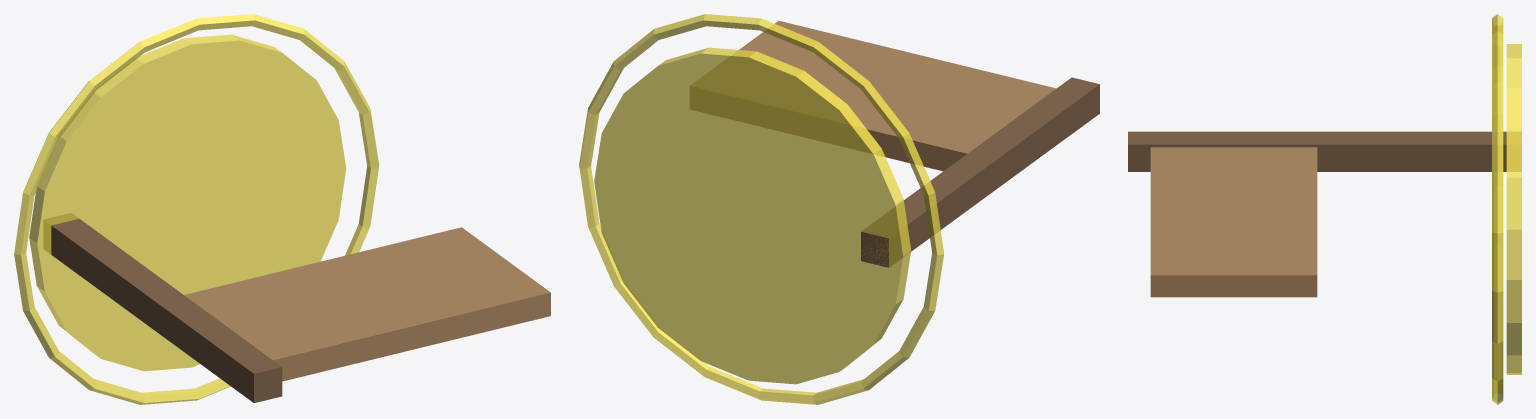
File: 04_tutorial_sign.glb
The picture shows the model from 3 angles, left to right: view 1: azimuth 30°, elevation 25°; view 2: azimuth 150°, elevation 25°; view 3: azimuth 270°, elevation 25°; orthographic projection. The views are drawn at different scales.
Visible parts, largest first — view 1: base_disc, panel, post, base_ring; view 2: base_disc, panel, base_ring, post; view 3: panel, post, base_disc, base_ring.
Boxes of the visible parts, x1=… form: base_disc: x1=29, y1=34, x2=346, y2=371; panel: x1=184, y1=227, x2=550, y2=381; post: x1=44, y1=213, x2=282, y2=403; base_ring: x1=14, y1=14, x2=379, y2=404; base_disc: x1=594, y1=47, x2=911, y2=384; panel: x1=690, y1=21, x2=1056, y2=171; base_ring: x1=579, y1=14, x2=943, y2=404; post: x1=861, y1=77, x2=1099, y2=267; panel: x1=1150, y1=147, x2=1317, y2=297; post: x1=1128, y1=131, x2=1521, y2=171; base_disc: x1=1506, y1=44, x2=1521, y2=374; base_ring: x1=1492, y1=14, x2=1503, y2=404.
Size of the model in its own units: 1.3 by 1.3 by 1.3.
